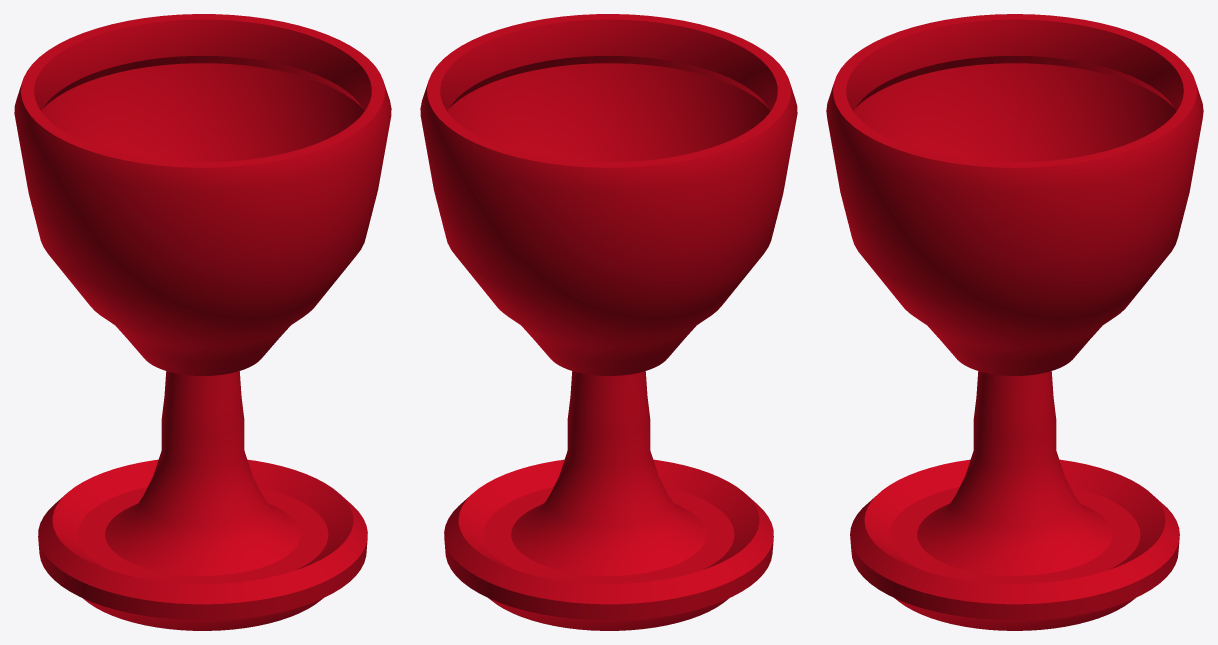
File: cup2.obj
3 views of the same model, side by side, from view 1: azimuth 30°, elevation 25°; view 2: azimuth 150°, elevation 25°; view 3: azimuth 270°, elevation 25° (orthographic).
Visible parts, largest first — view 1: Cup2.001; view 2: Cup2.001; view 3: Cup2.001.
Boxes of the visible parts, x1=… form: Cup2.001: x1=14, y1=14, x2=391, y2=630; Cup2.001: x1=420, y1=14, x2=797, y2=630; Cup2.001: x1=826, y1=14, x2=1203, y2=630.
Size of the model in its own units: 2.52 by 3.58 by 2.52.
